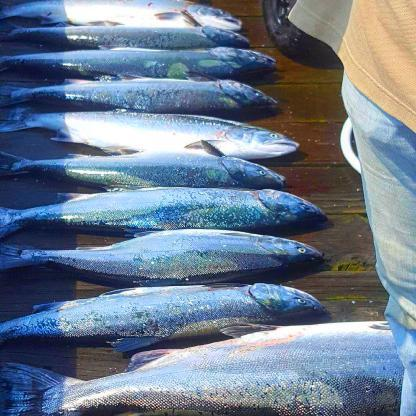fish: (0, 281, 325, 351), (0, 228, 329, 289), (0, 189, 329, 245), (0, 104, 301, 163), (0, 140, 294, 191), (0, 45, 281, 85), (0, 79, 278, 112), (0, 0, 248, 29), (0, 26, 255, 51)
